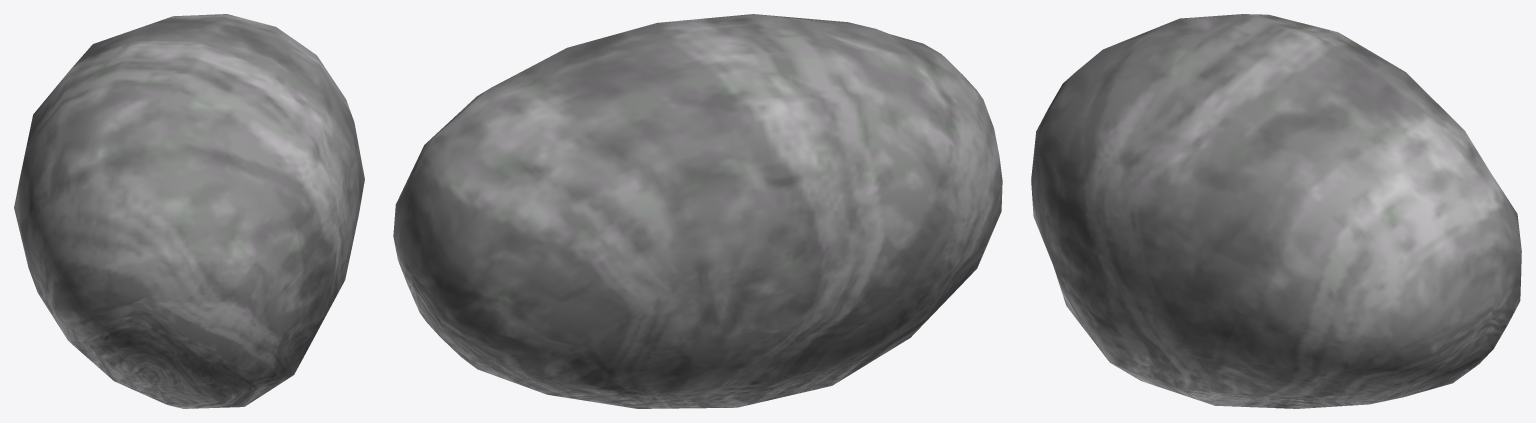
The model's file is Potato_Item.fbx.
3 views of the same model, side by side, from view 1: azimuth 30°, elevation 25°; view 2: azimuth 150°, elevation 25°; view 3: azimuth 270°, elevation 25° (orthographic). The views are drawn at different scales.
Visible parts, largest first — view 1: Potato; view 2: Potato; view 3: Potato.
Part boxes in pixels (x1,y1,x2,y2): Potato: (14, 14, 364, 408); Potato: (393, 14, 1002, 408); Potato: (1031, 14, 1521, 408).
Size of the model in its own units: 0.5338 by 0.4146 by 0.5488.
